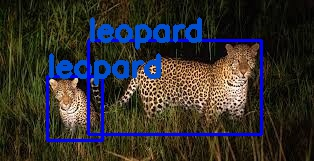leopard: (87, 40, 260, 134), (46, 75, 101, 139)
